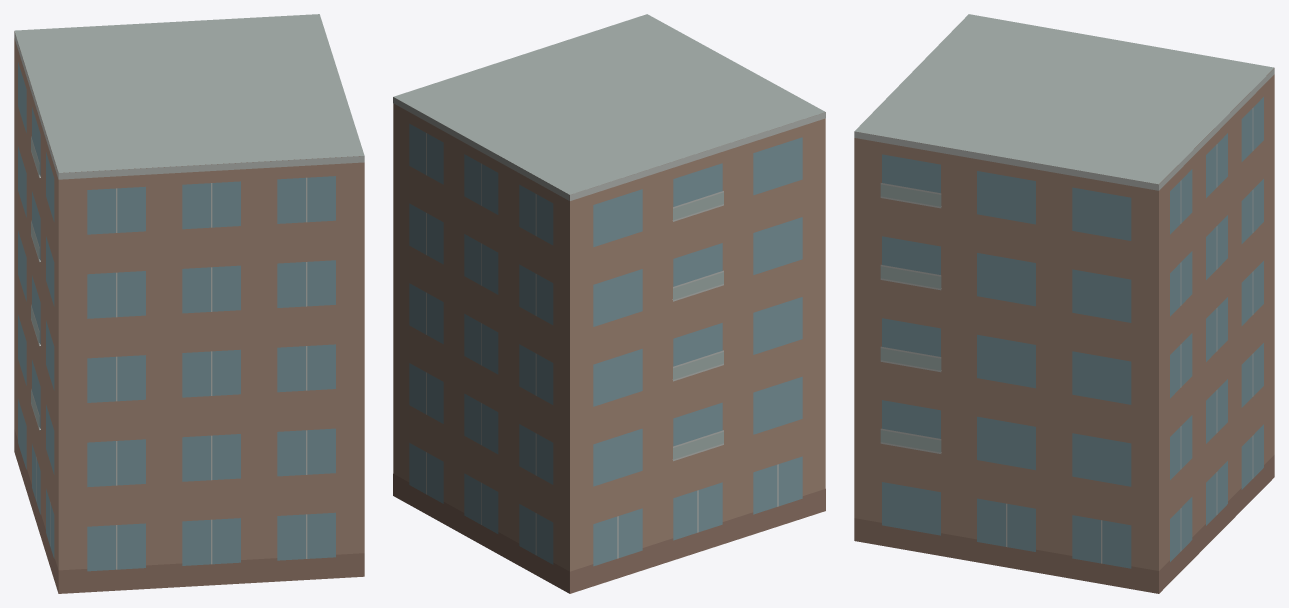
The model's file is survey-upis-32505027.glb.
3 renders of one model, left to right at view 1: azimuth 30°, elevation 25°; view 2: azimuth 150°, elevation 25°; view 3: azimuth 270°, elevation 25°, orthographic. The views are drawn at different scales.
Parts seen in each view (by area): view 1: survey-upis-32505027.tmp; view 2: survey-upis-32505027.tmp; view 3: survey-upis-32505027.tmp.
Boxes of the visible parts, x1=… form: survey-upis-32505027.tmp: x1=14, y1=14, x2=364, y2=593; survey-upis-32505027.tmp: x1=393, y1=14, x2=825, y2=593; survey-upis-32505027.tmp: x1=854, y1=14, x2=1274, y2=593.
Bounding box in the file's own units: 13.75 × 15.4 × 14.33.
